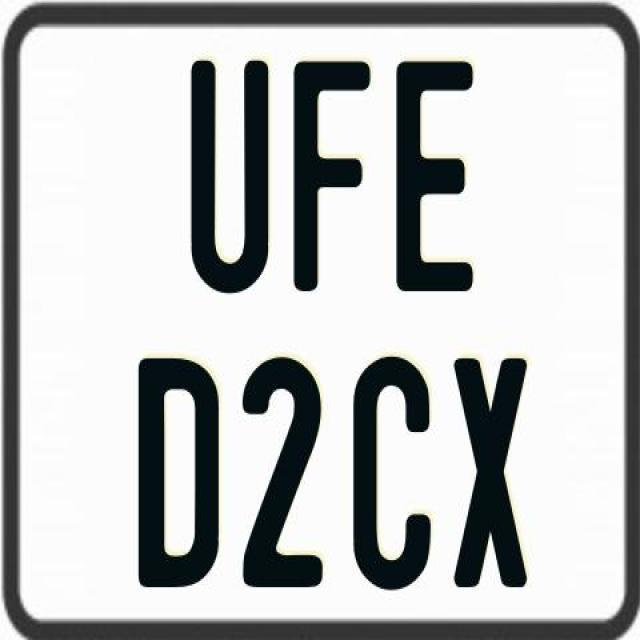2: (242, 357, 324, 596)
C: (350, 356, 434, 594)
D: (136, 354, 217, 590)
E: (394, 59, 478, 299)
F: (289, 59, 368, 296)
U: (188, 56, 274, 294)
X: (454, 357, 528, 587)
